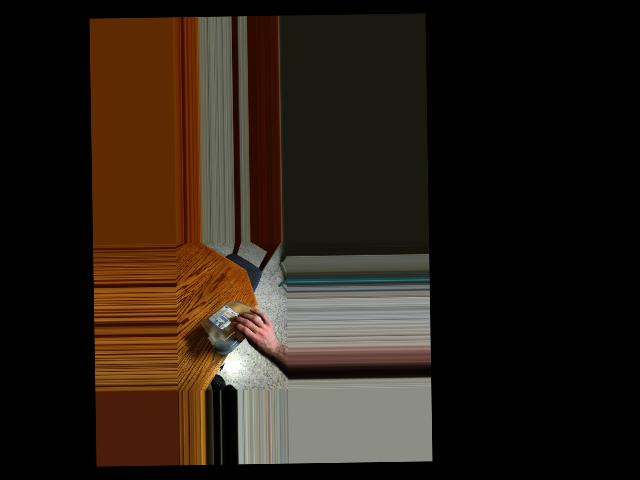cheese: (201, 300, 266, 353)
